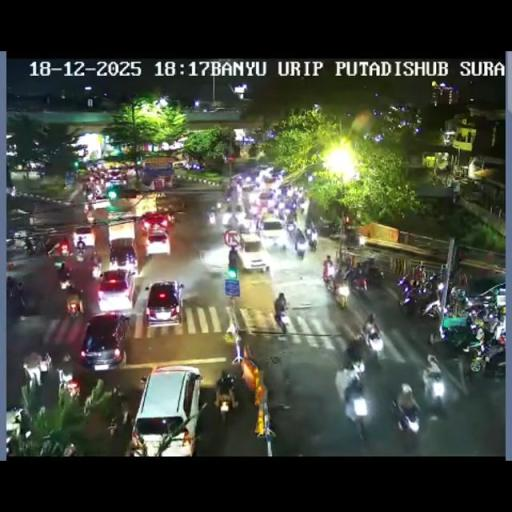Car: (130, 365, 200, 455), (78, 312, 129, 370), (96, 268, 138, 313), (144, 280, 184, 327), (234, 234, 270, 272), (463, 275, 505, 306), (196, 240, 230, 274), (108, 242, 138, 273), (258, 216, 284, 250), (216, 202, 247, 230), (146, 227, 170, 256), (139, 211, 171, 232), (89, 196, 111, 215), (106, 168, 128, 182), (258, 190, 274, 206), (254, 164, 272, 178), (242, 179, 255, 192), (171, 160, 187, 169)
Motorcycle: (466, 326, 504, 372), (342, 381, 369, 438), (263, 355, 291, 409), (392, 394, 421, 436), (421, 363, 446, 405), (214, 384, 238, 422), (420, 289, 447, 320), (398, 282, 422, 316), (362, 314, 382, 350), (113, 388, 131, 426), (453, 267, 469, 308), (58, 369, 80, 398), (462, 300, 490, 322), (66, 287, 84, 318), (346, 355, 366, 381), (332, 278, 349, 308), (274, 304, 290, 334), (483, 312, 501, 335), (350, 271, 368, 293), (322, 267, 336, 292), (38, 351, 52, 375), (6, 277, 21, 298), (412, 264, 426, 286), (107, 414, 119, 436), (58, 276, 73, 293), (296, 234, 306, 258), (285, 218, 297, 236), (23, 241, 37, 256), (90, 262, 102, 279), (307, 231, 317, 251), (75, 242, 86, 259), (250, 214, 260, 232), (298, 196, 308, 214), (224, 184, 234, 202), (59, 241, 70, 256), (284, 204, 294, 220), (85, 209, 94, 224), (276, 202, 286, 215), (207, 210, 216, 224), (139, 374, 147, 389), (6, 237, 16, 249), (452, 191, 461, 204), (86, 190, 94, 202), (38, 168, 44, 180), (22, 170, 29, 180)
